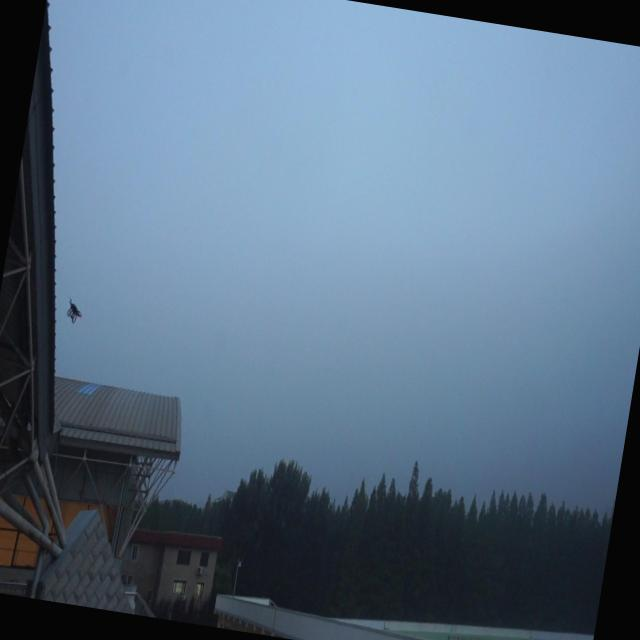drone: (64, 294, 85, 330)
